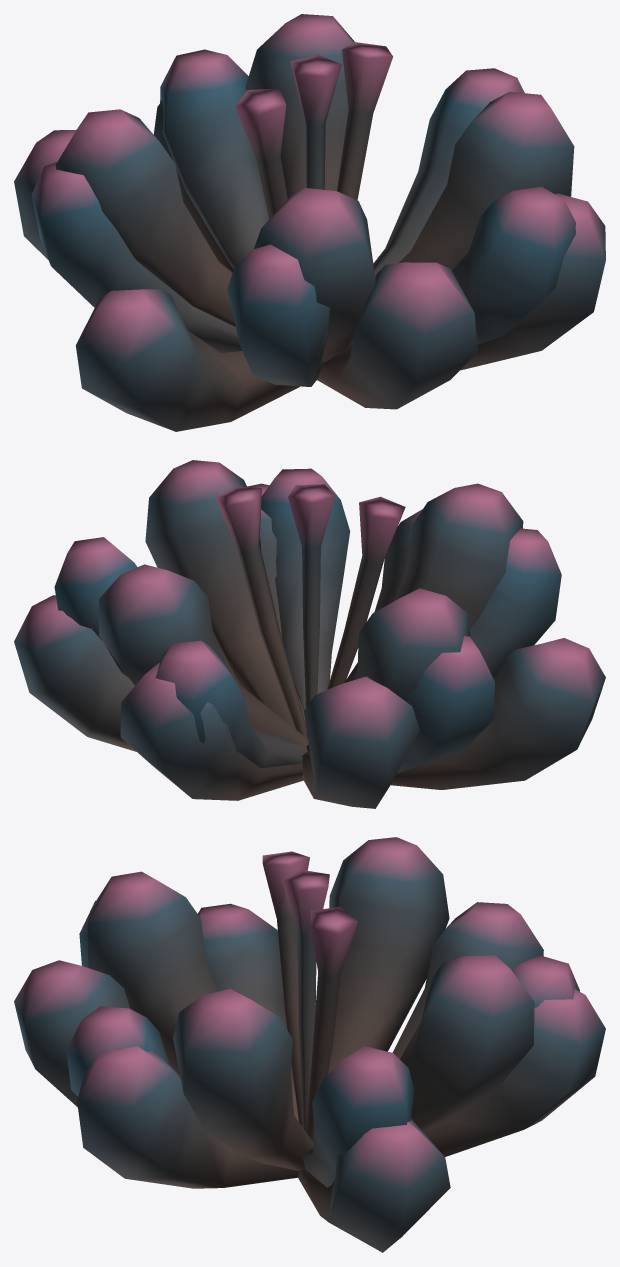
The model's file is plants-cacti-succulents-baby-toes_v2.fbx.
The picture shows the model from 3 angles, top to bottom: view 1: azimuth 30°, elevation 25°; view 2: azimuth 150°, elevation 25°; view 3: azimuth 270°, elevation 25°; orthographic projection. The views are drawn at different scales.
Visible parts, largest first — view 1: Baby Toes_v2; view 2: Baby Toes_v2; view 3: Baby Toes_v2.
Part boxes in pixels (x1,y1,x2,y2): Baby Toes_v2: (14, 14, 605, 431); Baby Toes_v2: (14, 460, 605, 808); Baby Toes_v2: (14, 837, 605, 1252).
Size of the model in its own units: 0.15 by 0.081 by 0.1466.
